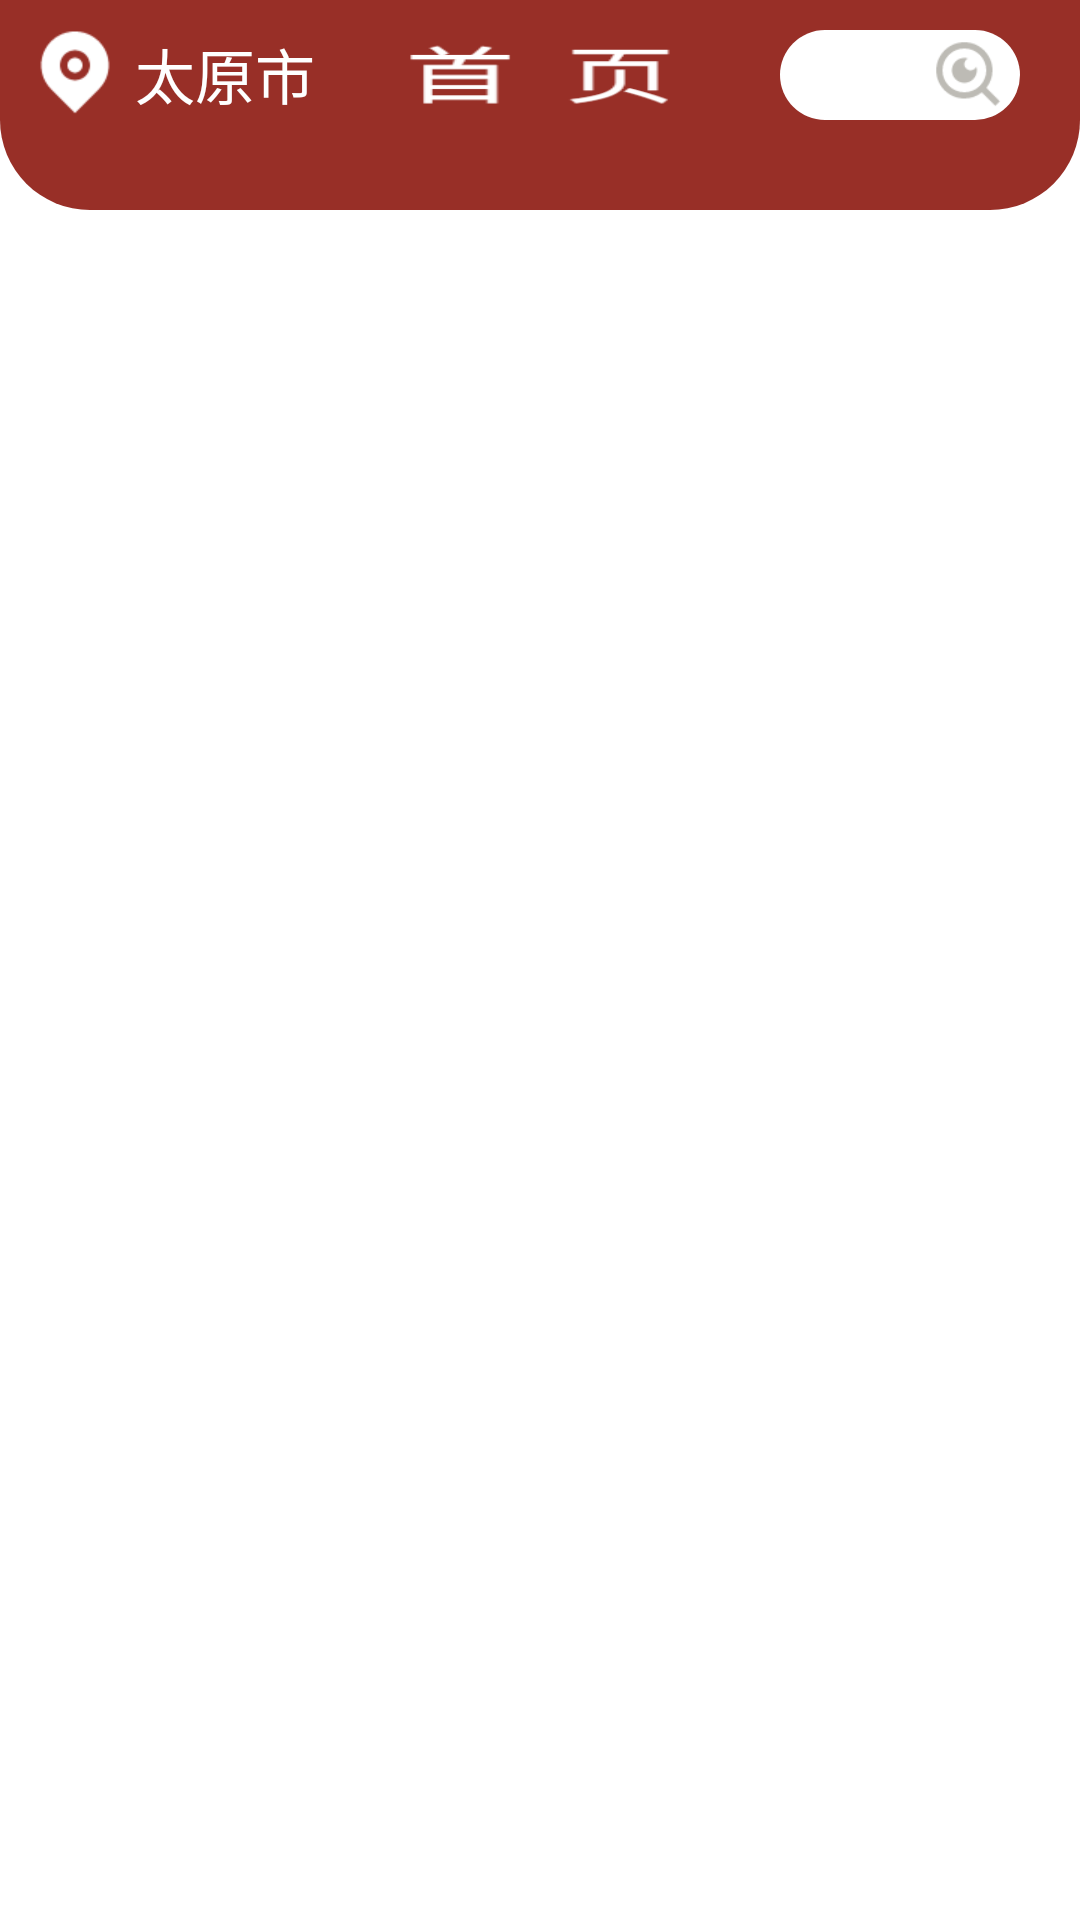

Icon click points for this 1080*1920 phone screenshot, format point (x, y):
local: point (75, 72)
search: point (968, 74)
